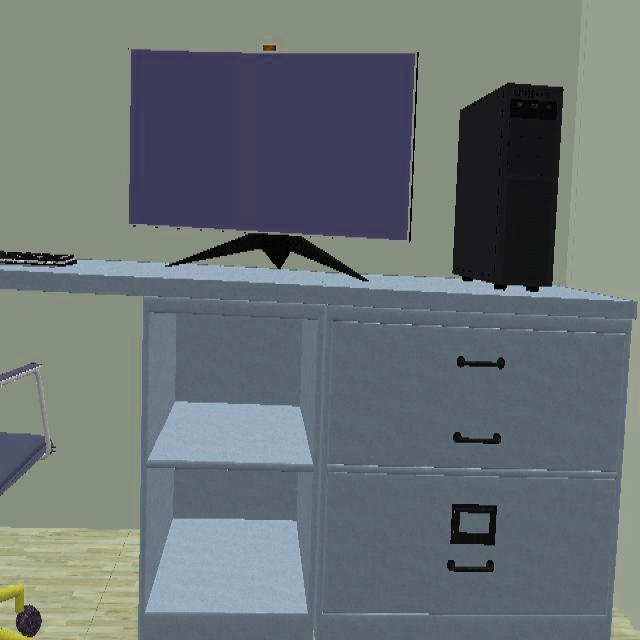cabinet: (136, 280, 640, 640)
chair: (0, 431, 54, 503)
monitor: (129, 48, 420, 244)
